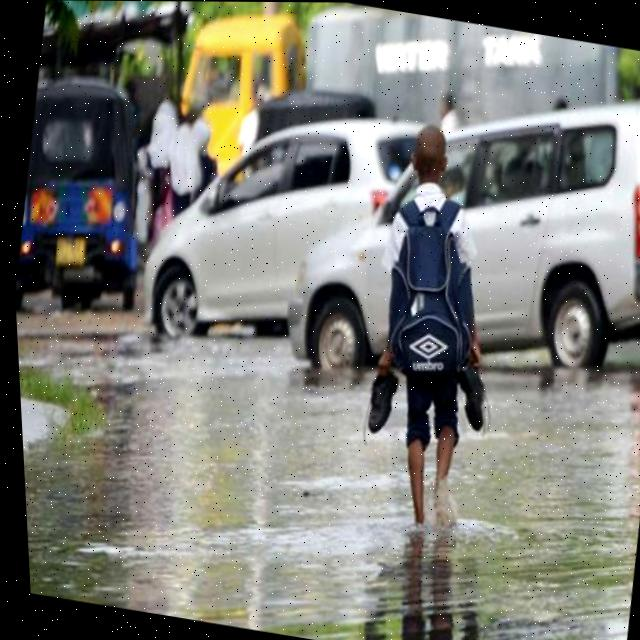civilian: (295, 94, 561, 580)
